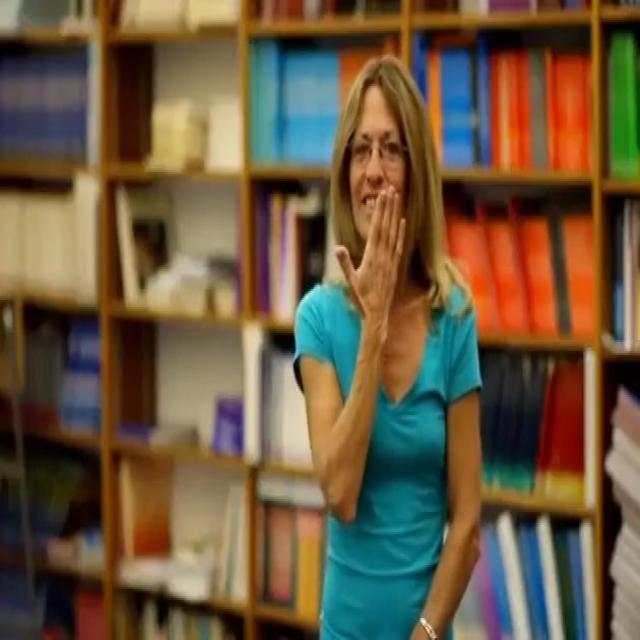napkin: (336, 186, 409, 334)
